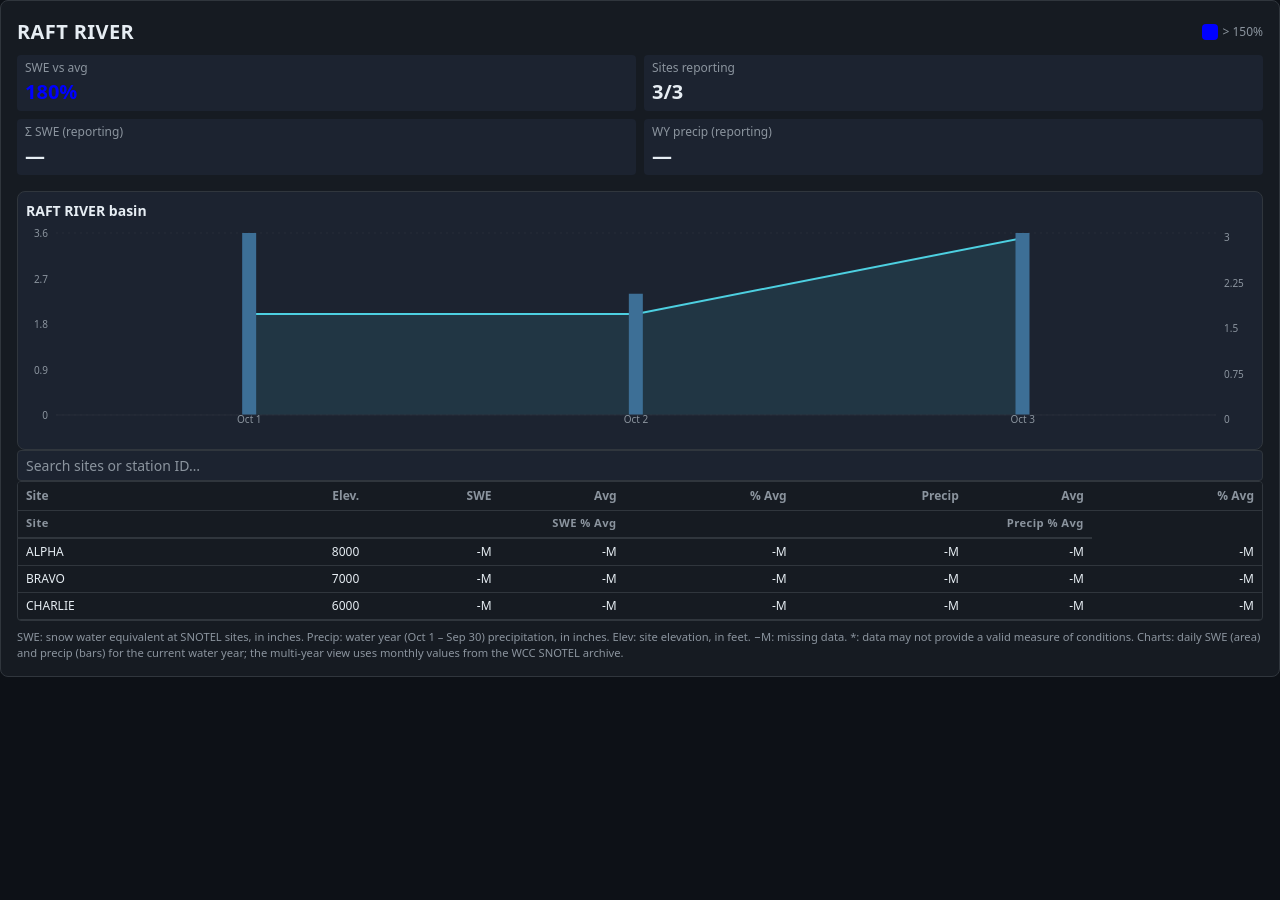
Test: DetailPanel: time series charts (task 9) › fetches multi-year history when the toggle is pressed
Click the button with aria-label "ALPHA — show time series" at (122, 552), box [26, 543, 219, 561]
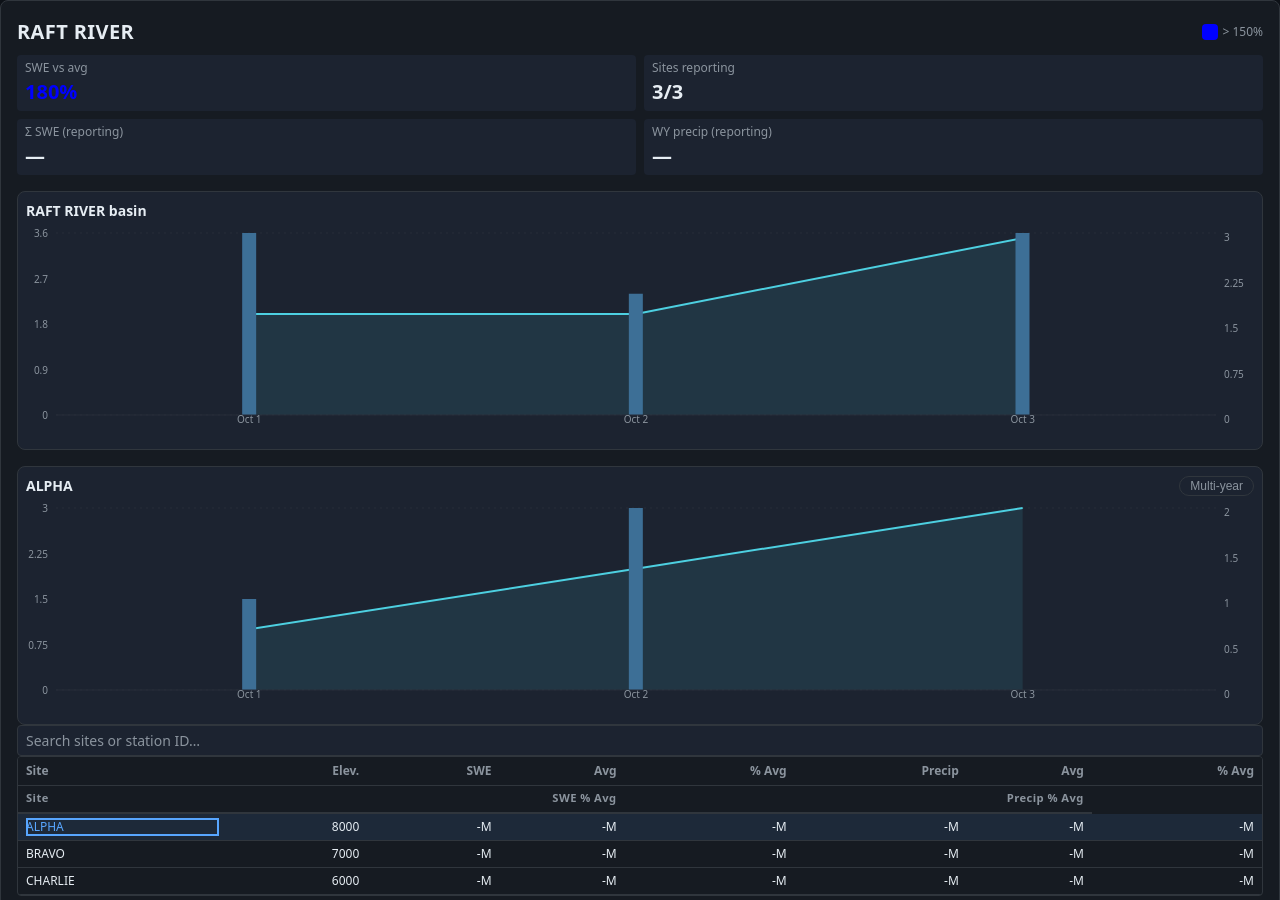
Click the button "Multi-year" at (1217, 486), box [1179, 476, 1254, 496]
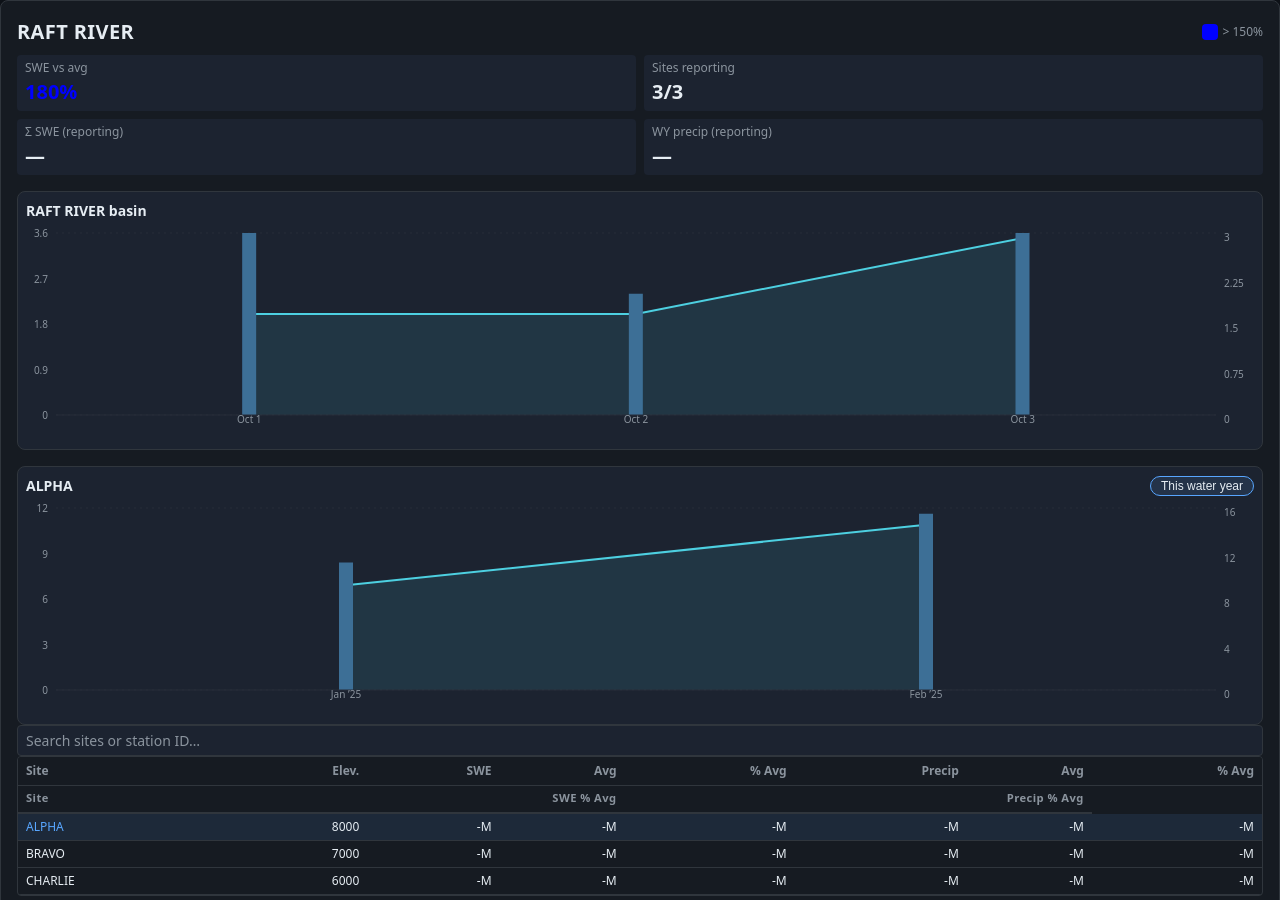
Check: the button "This water year" is shown, box [1150, 476, 1254, 496]
